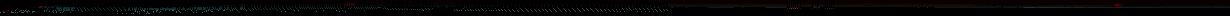Blue cone: (39, 6, 51, 7)
Yellow cone: (337, 3, 355, 6), (1114, 3, 1121, 7)
